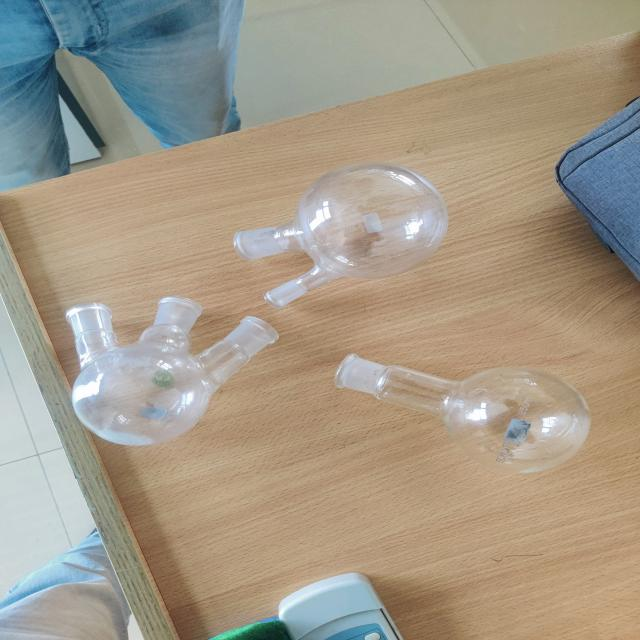Round_Bottom_Flask_Borosilicate_Glass_1_Neck: (310, 326, 640, 484)
Round_Bottom_Flask_Borosilicate_Glass_2_Neck: (216, 149, 480, 317)
Round_Bottom_Flask_Borosilicate_Glass_3_Neck: (60, 255, 289, 477)
